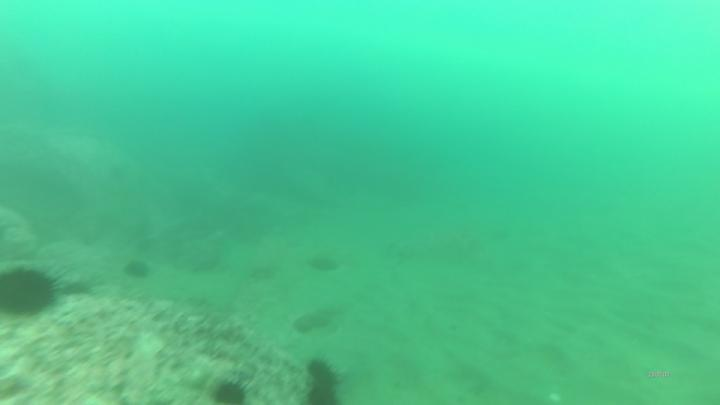echinus: (1, 266, 56, 323), (306, 357, 340, 405), (211, 378, 247, 405)
